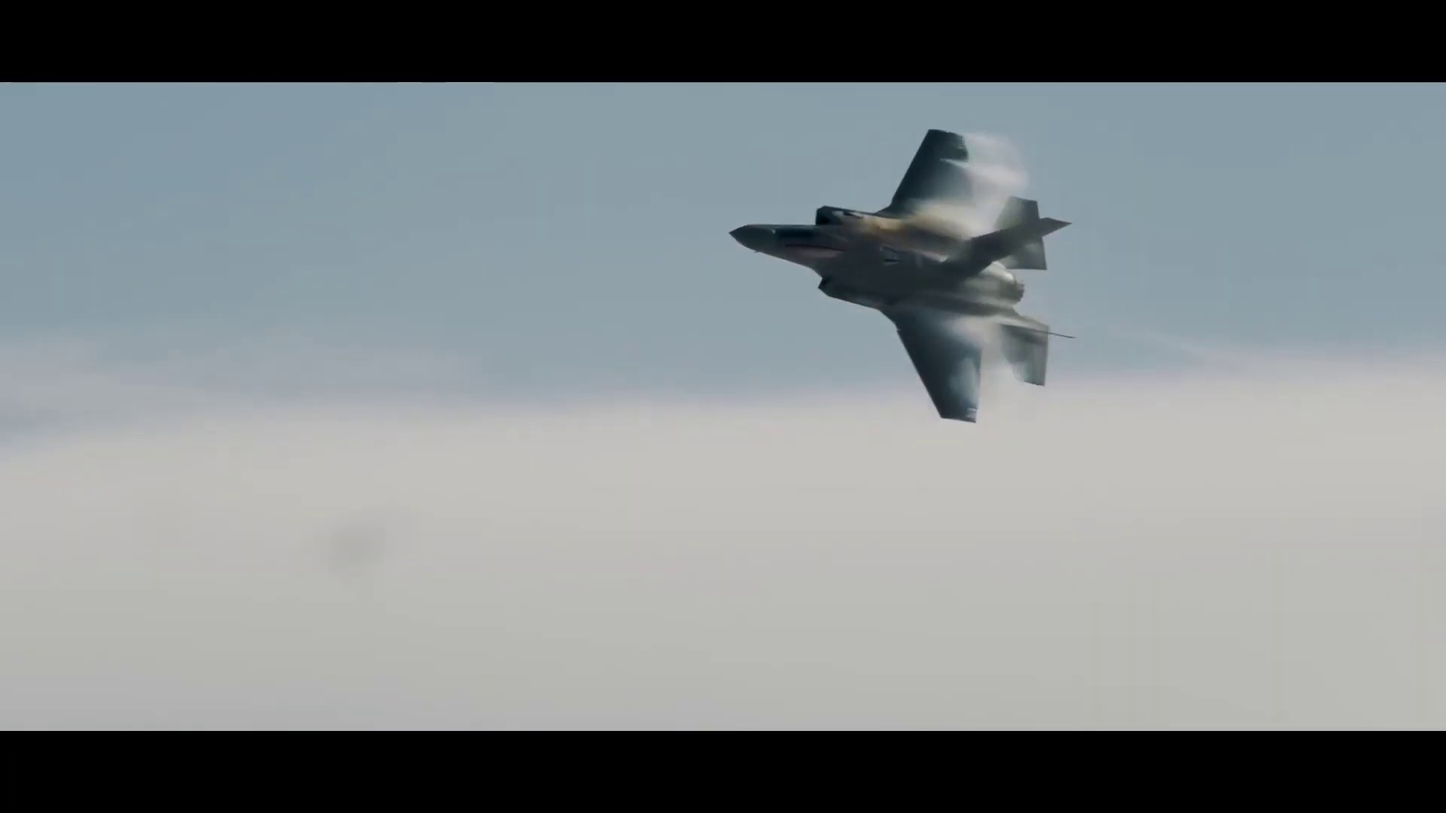F35: (722, 119, 1091, 431)
